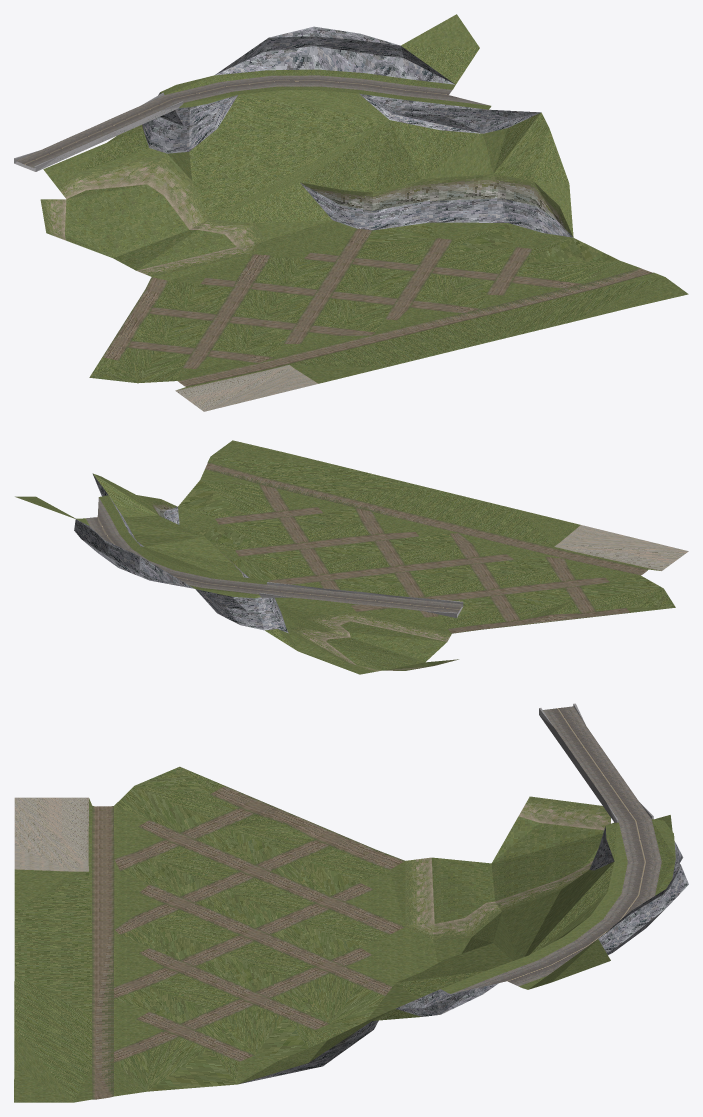
File: lod_ne_bit_07.obj
The picture shows the model from 3 angles, top to bottom: view 1: azimuth 30°, elevation 25°; view 2: azimuth 150°, elevation 25°; view 3: azimuth 270°, elevation 25°; orthographic projection. The views are drawn at different scales.
Parts seen in each view (by area): view 1: lod_ne_bit_07; view 2: lod_ne_bit_07; view 3: lod_ne_bit_07.
Boxes of the visible parts, x1,y1,x2,y2 form: lod_ne_bit_07: (14,14,688,411); lod_ne_bit_07: (15,440,688,674); lod_ne_bit_07: (14,703,688,1102).
Bounding box in the file's own units: 284 × 58.18 × 241.
14 materials, 14 textured.
